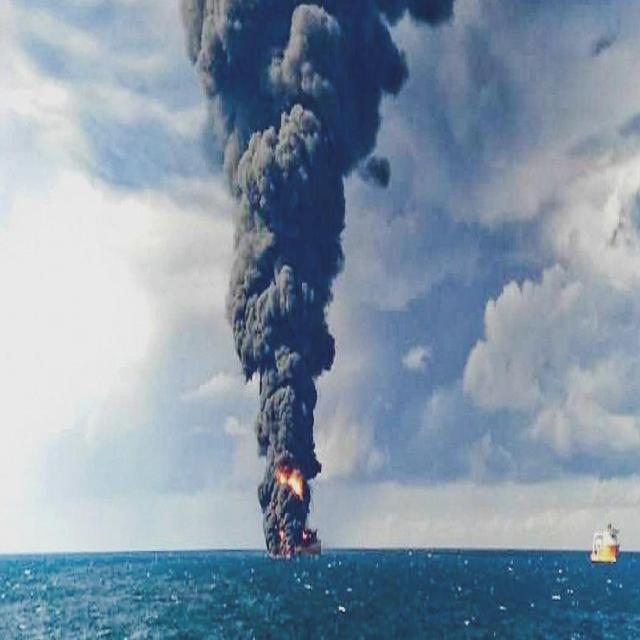Fire: (276, 466, 304, 498), (590, 545, 616, 563)
